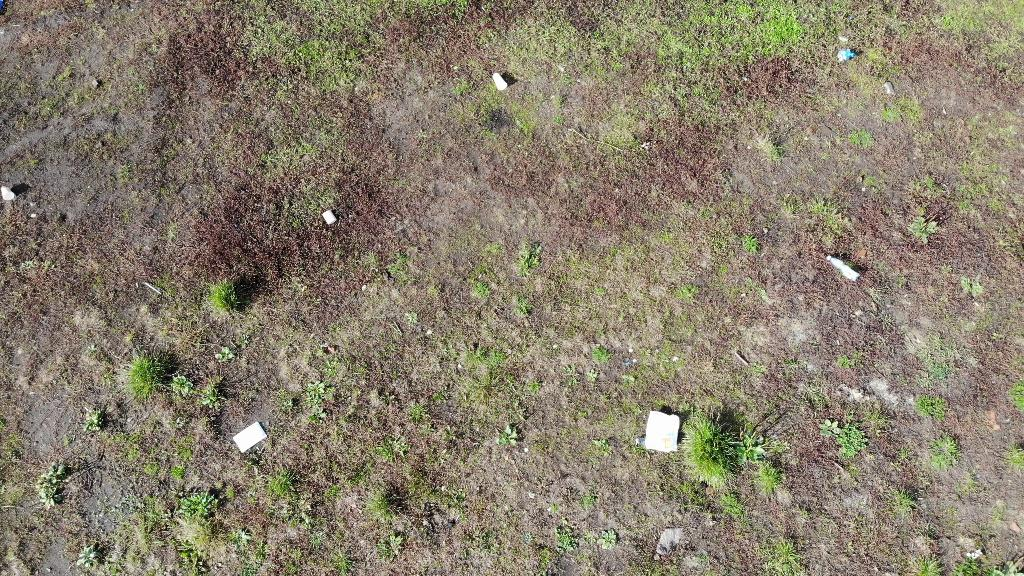garbage: (642, 407, 683, 457), (230, 418, 266, 457), (824, 252, 862, 288), (645, 411, 679, 451), (825, 258, 863, 285), (232, 422, 266, 452), (490, 73, 508, 95), (837, 48, 857, 64), (319, 209, 338, 225), (1, 187, 16, 202)
